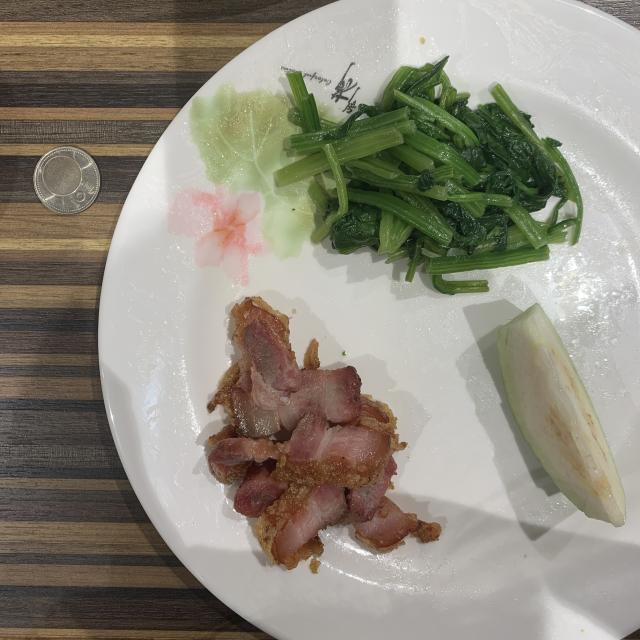coin: (34, 146, 100, 214)
guava -sliced-: (498, 304, 626, 526)
mustard greens: (275, 56, 582, 294)
red grilled pork: (208, 298, 440, 569)
